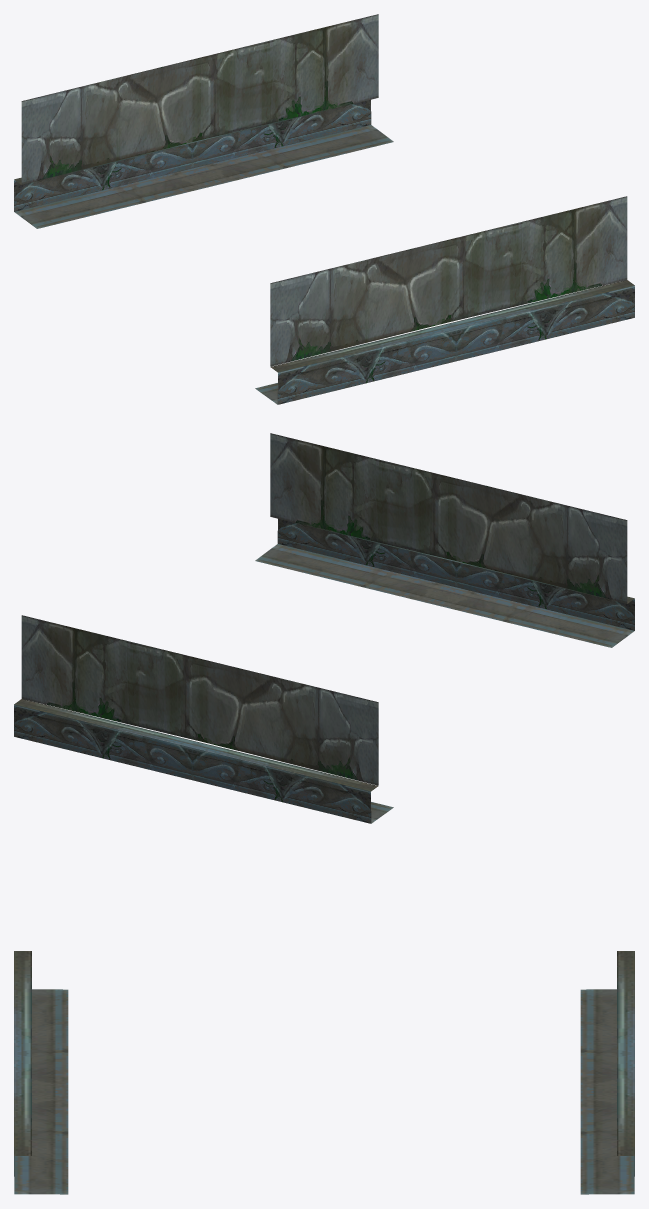
The model's file is stemple_bridgesmall_straight_02.fbx.
3 renders of one model, top to bottom at view 1: azimuth 30°, elevation 25°; view 2: azimuth 150°, elevation 25°; view 3: azimuth 270°, elevation 25°, orthographic. The views are drawn at different scales.
Parts seen in each view (by area): view 1: obj1.055; view 2: obj1.055; view 3: obj1.055.
Part boxes in pixels (x1,y1,x2,y2): obj1.055: [14, 14, 634, 404]; obj1.055: [14, 433, 634, 823]; obj1.055: [14, 951, 634, 1194].
Size of the model in its own units: 4 by 1.25 by 5.12.
